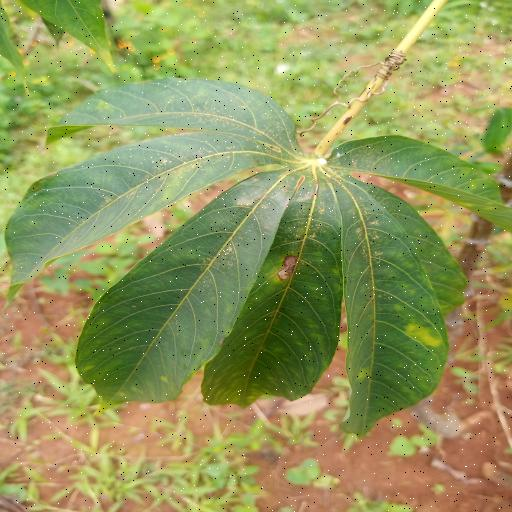Cassava_Mosaic: (3, 80, 512, 436)
